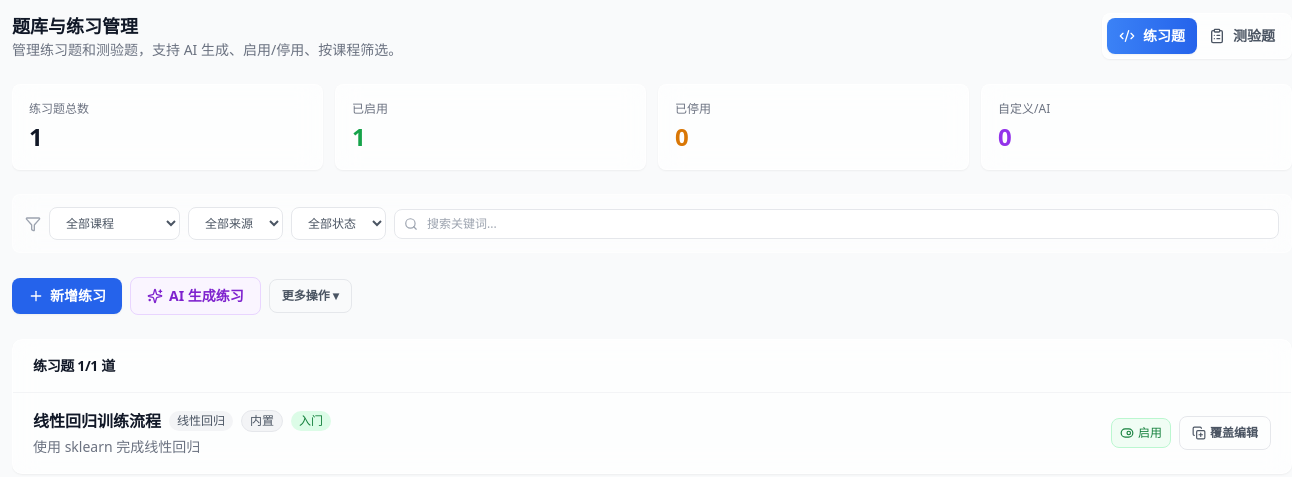
Test case: AdminQuestionPanel › 筛选功能 › 按课程筛选后列表更新
The width and height of the screenshot is (1292, 477).
Select "K近邻" in the 1st dropdown showing "全部课程" at coordinates (114, 224), box [49,207,180,240]
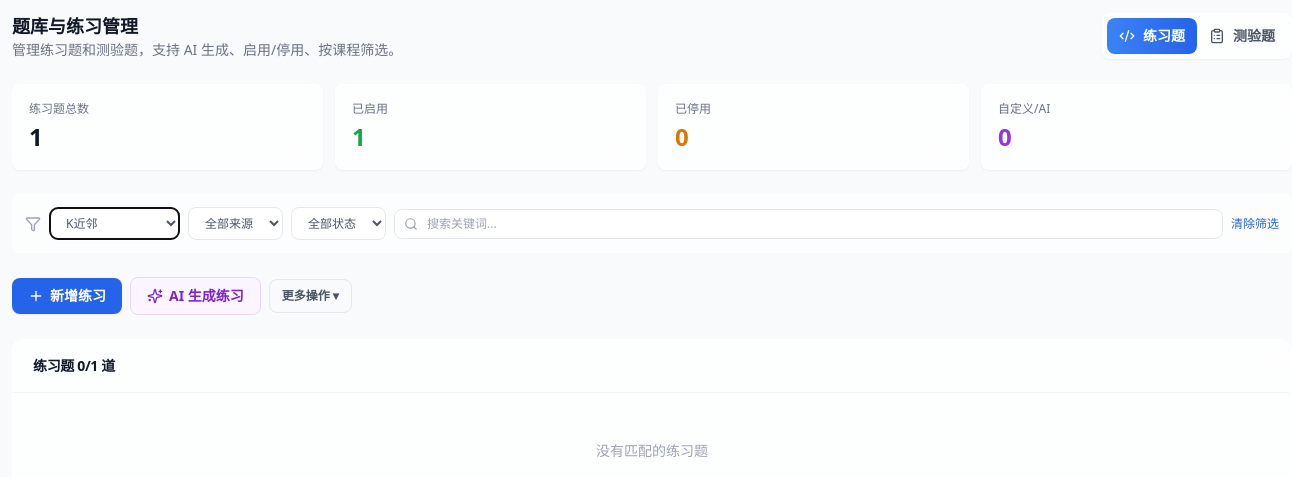
Check: the text "没有匹配的练习题" is shown, box [596,441,708,460]
